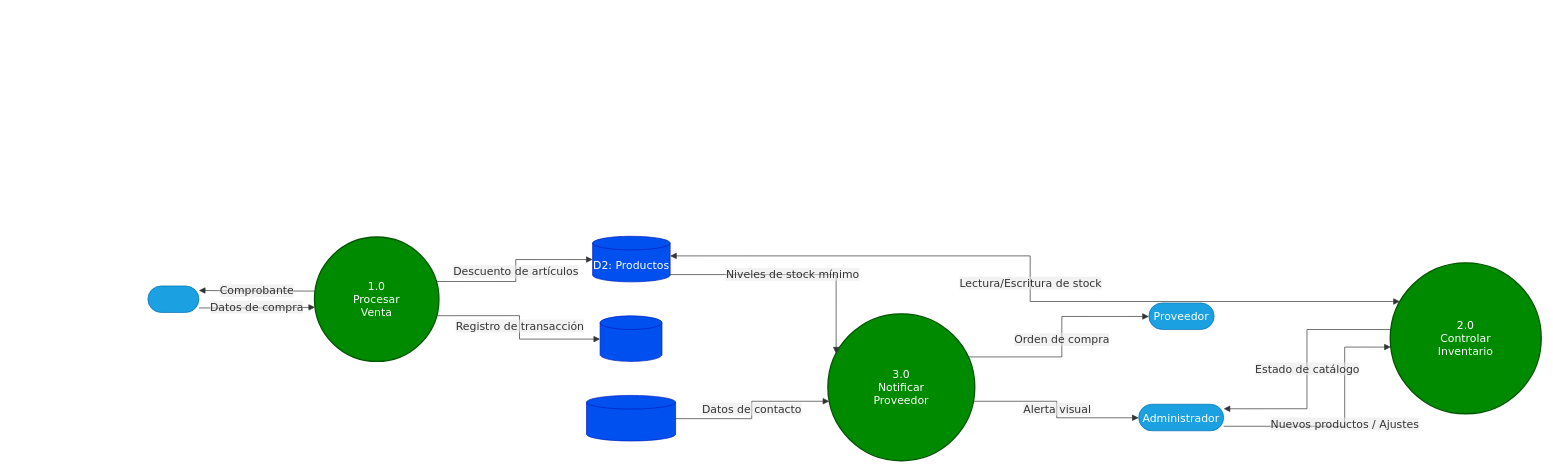
Some shapes in this 1553 by 473 pixel diagram are drawn without their labels. Here are the shapes that lost their labels. From the top down, the centre of each, then its label:
At (x=173, y=298): "Cliente".
At (x=630, y=338): "D1: Ventas".
At (x=631, y=418): "D3: Proveedores".
